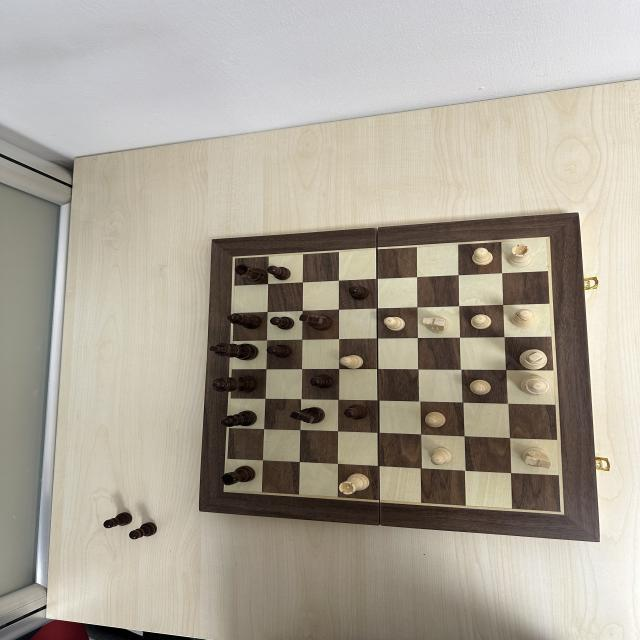chess-table-corners: (554, 508, 570, 518), (542, 234, 554, 244), (219, 486, 232, 494), (229, 254, 239, 262)
